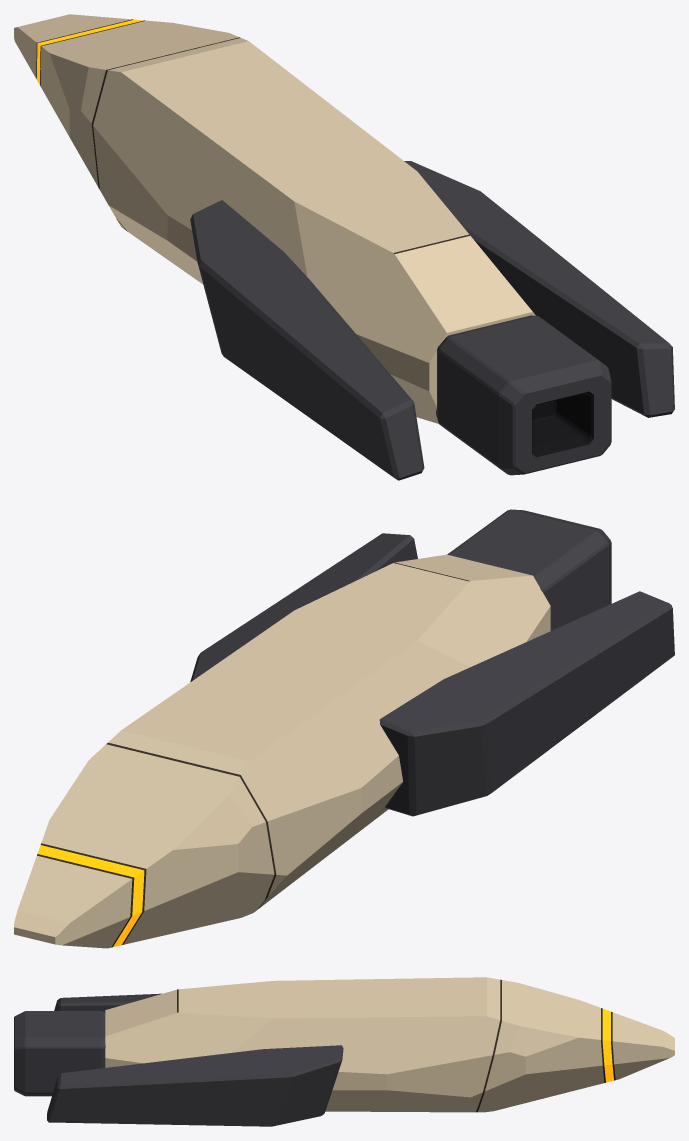
Rendered from Skiff-v2.fbx.
The picture shows the model from 3 angles, top to bottom: view 1: azimuth 30°, elevation 25°; view 2: azimuth 150°, elevation 25°; view 3: azimuth 270°, elevation 25°; orthographic projection. The views are drawn at different scales.
Parts seen in each view (by area): view 1: Skiff • hull, Skiff • port fin, Skiff • square exhaust, Skiff • starboard fin; view 2: Skiff • hull, Skiff • port fin, Skiff • square exhaust, Skiff • starboard fin; view 3: Skiff • hull, Skiff • starboard fin, Skiff • square exhaust, Skiff • port fin.
Part boxes in pixels (left/top/right/bottom): Skiff • hull: left=14, top=14, right=535, bottom=423; Skiff • port fin: left=190, top=200, right=424, bottom=480; Skiff • square exhaust: left=436, top=315, right=611, bottom=475; Skiff • starboard fin: left=404, top=161, right=674, bottom=417; Skiff • hull: left=14, top=554, right=550, bottom=948; Skiff • port fin: left=379, top=591, right=674, bottom=816; Skiff • square exhaust: left=447, top=509, right=611, bottom=630; Skiff • starboard fin: left=190, top=533, right=417, bottom=681; Skiff • hull: left=105, top=977, right=674, bottom=1112; Skiff • starboard fin: left=47, top=1045, right=343, bottom=1126; Skiff • square exhaust: left=14, top=1011, right=105, bottom=1096; Skiff • port fin: left=54, top=993, right=161, bottom=1012.
Bounding box in the file's own units: 158 × 79.82 × 492.
